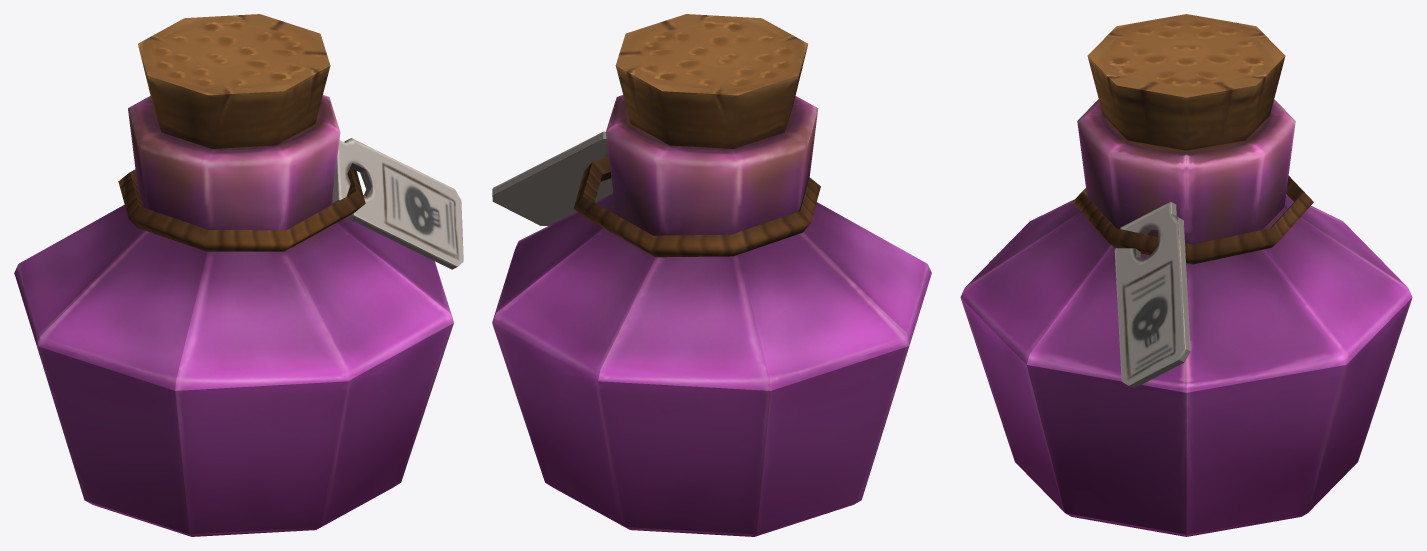
The model's file is 15_potion.FBX.
3 views of the same model, side by side, from view 1: azimuth 30°, elevation 25°; view 2: azimuth 150°, elevation 25°; view 3: azimuth 270°, elevation 25° (orthographic).
Visible parts, largest first — view 1: 15_potion; view 2: 15_potion; view 3: 15_potion.
Part boxes in pixels (left/top/right/bottom): 15_potion: left=14, top=14, right=463, bottom=536; 15_potion: left=492, top=14, right=931, bottom=536; 15_potion: left=960, top=14, right=1412, bottom=536.
Size of the model in its own units: 50.74 by 47.88 by 47.57.
